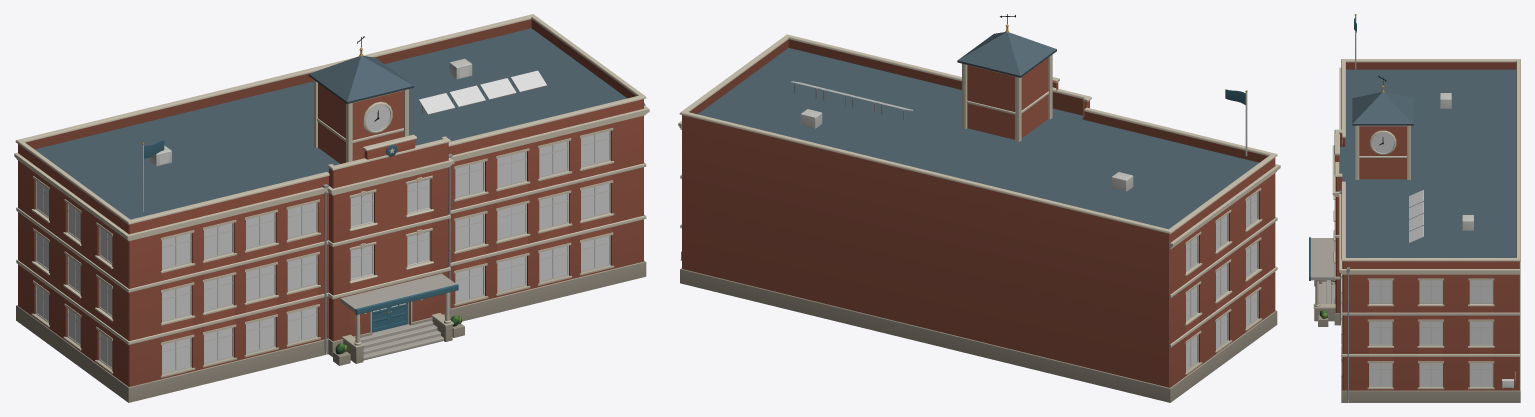
Rendered from School.fbx.
3 renders of one model, left to right at view 1: azimuth 30°, elevation 25°; view 2: azimuth 150°, elevation 25°; view 3: azimuth 270°, elevation 25°, orthographic. The views are drawn at different scales.
Visible parts, largest first — view 1: School; view 2: School; view 3: School.
Boxes of the visible parts, <box> form: School: <box>14,14,649,402</box>; School: <box>678,14,1280,402</box>; School: <box>1309,14,1520,402</box>.
Size of the model in its own units: 32.51 by 16.83 by 14.32.
